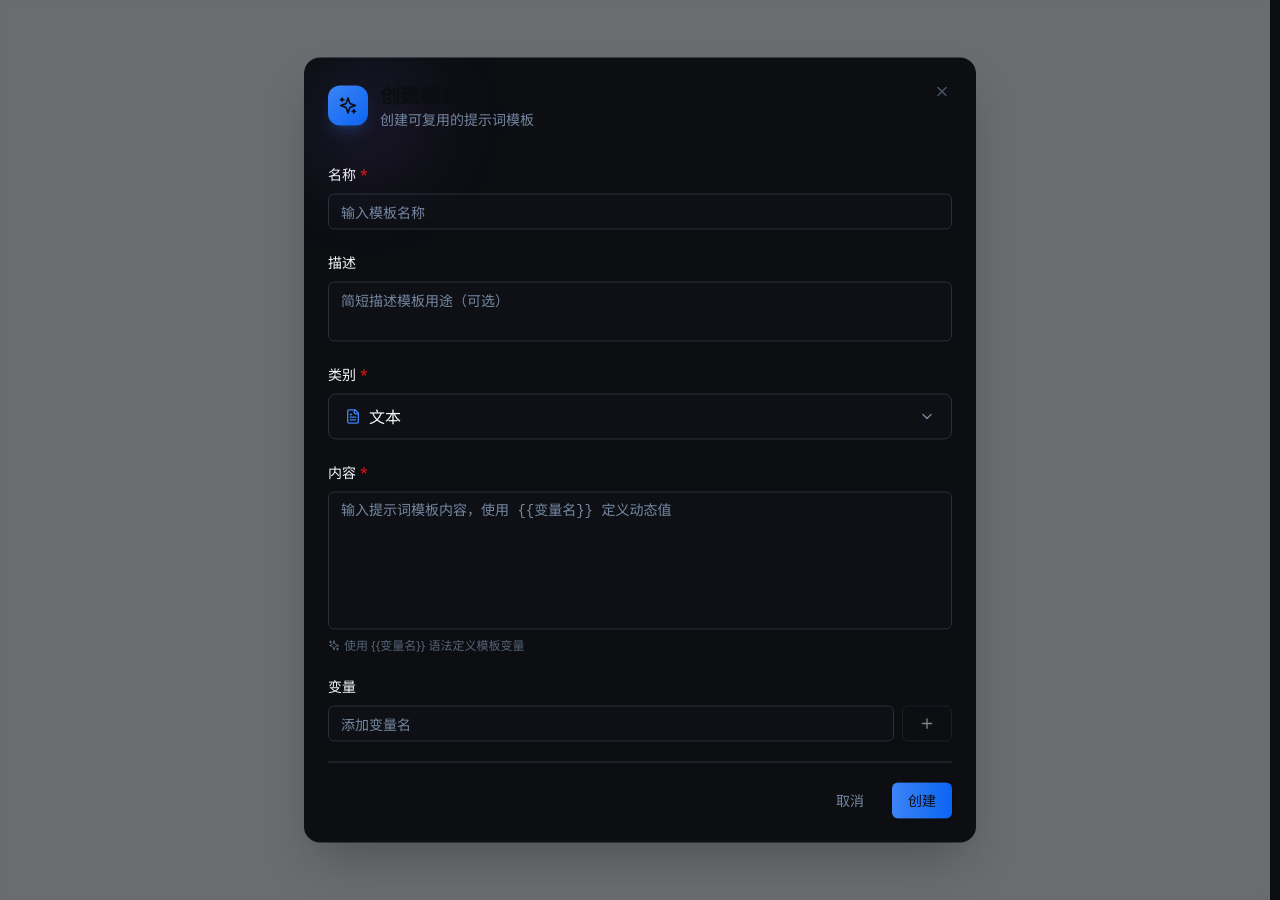
Test: CreateTemplateModal › shows creating state while submitting
The image size is (1280, 900).
Type "Test" into the field with placeholder "输入模板名称" at (640, 212), box top-left (328, 194), bottom-right (952, 230)
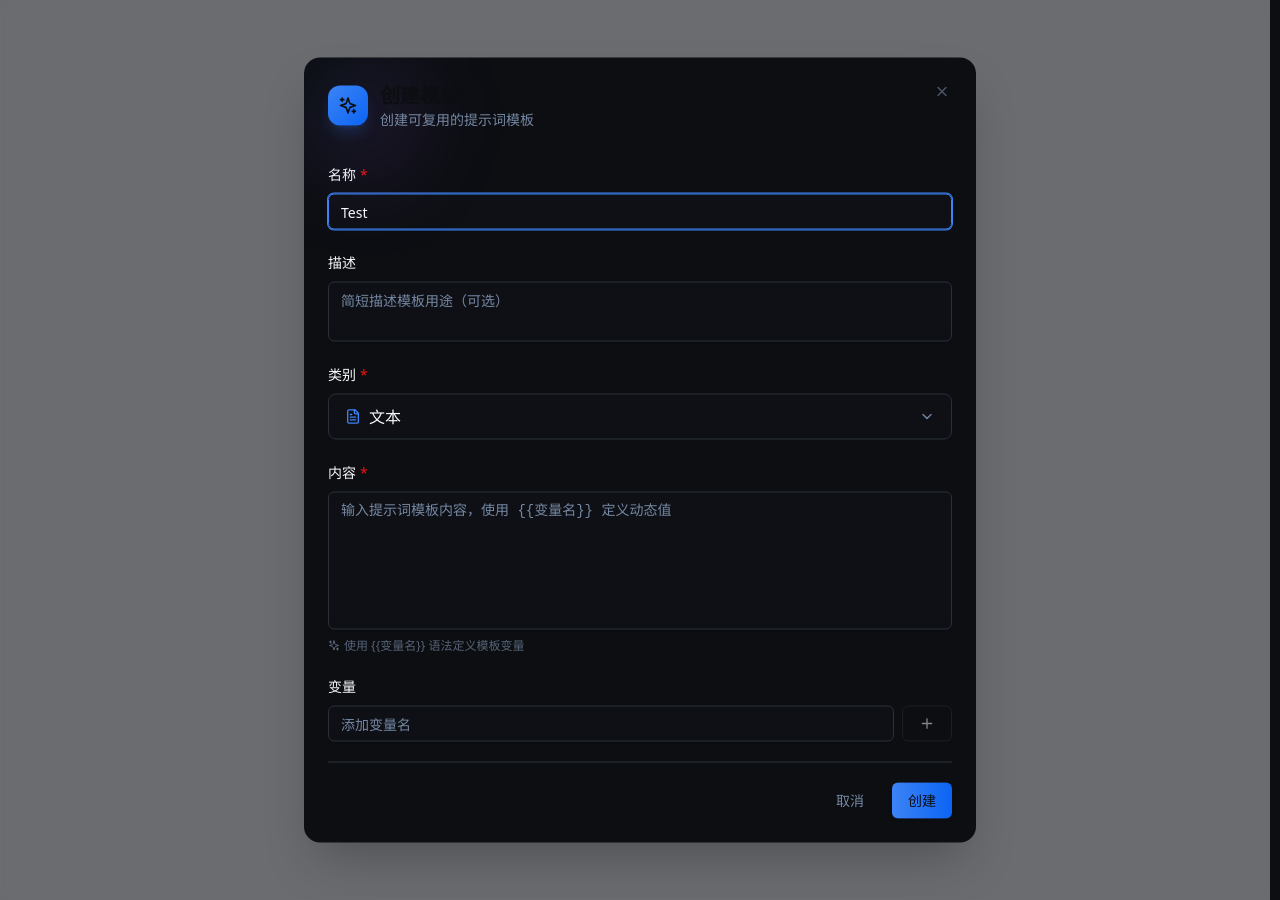
Type "Content" into the text box with placeholder "输入提示词模板内容，使用 {{变量名}} 定义动态值" at (640, 560), box top-left (328, 492), bottom-right (952, 630)
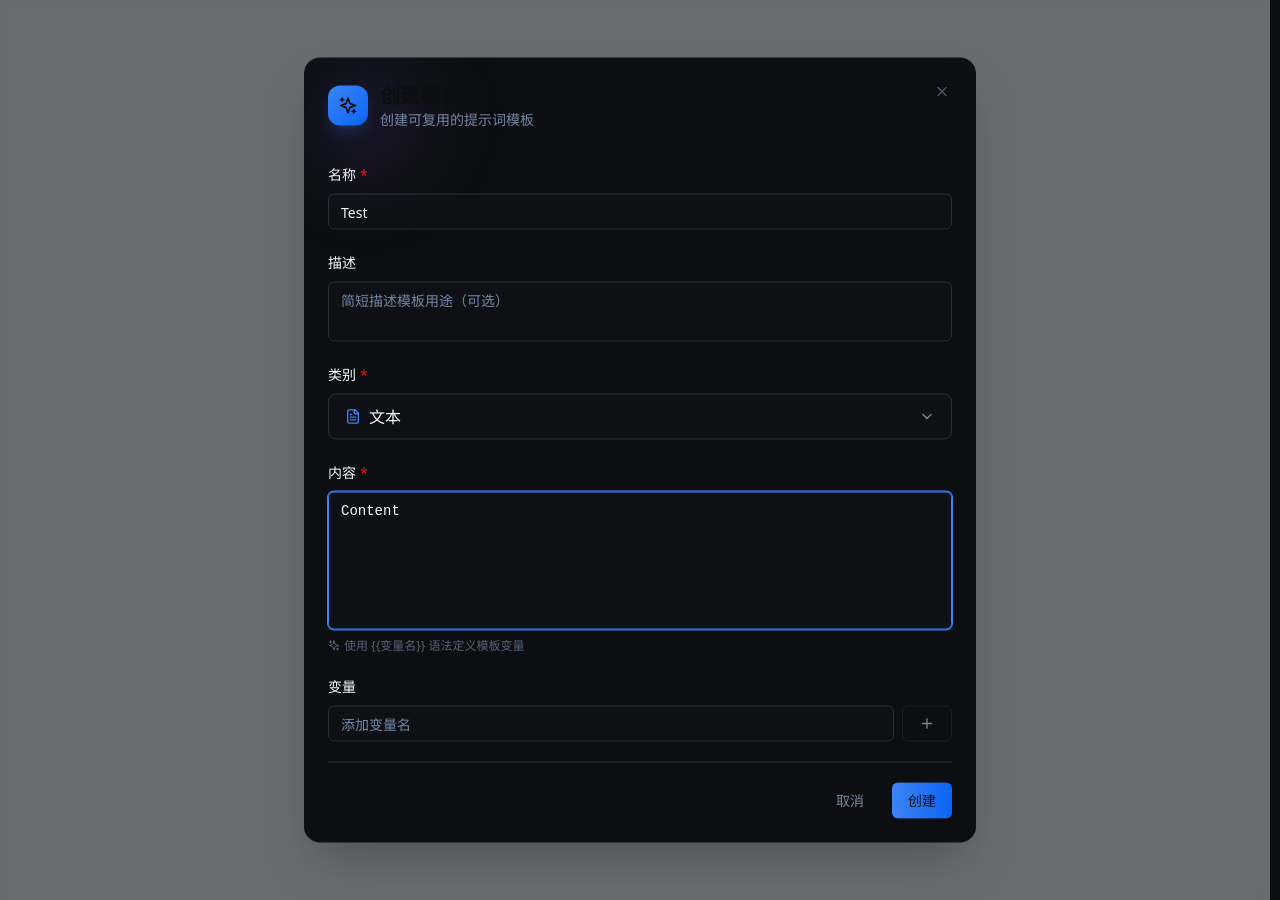
Click the button "创建" at (922, 800), box top-left (892, 782), bottom-right (952, 818)
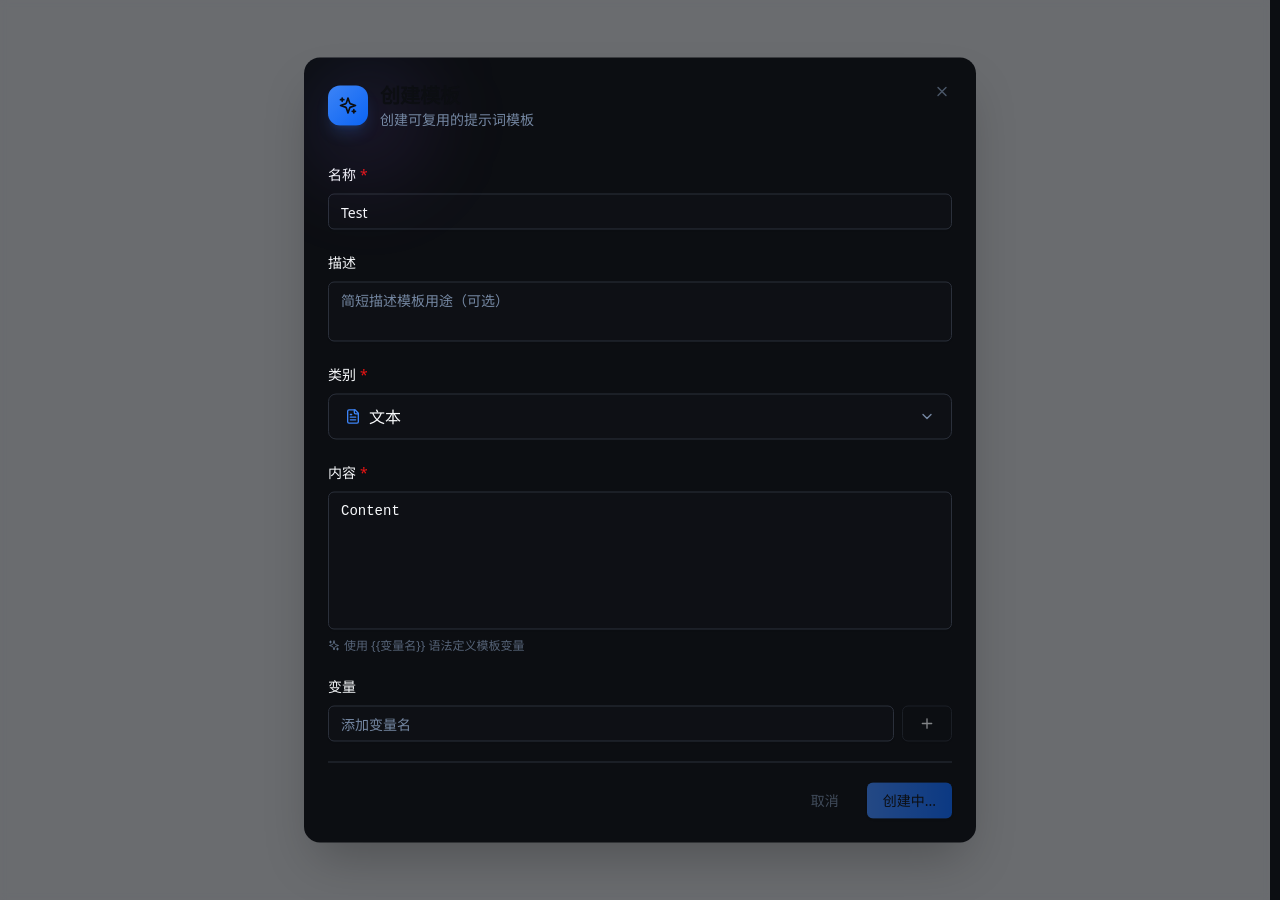
Expected: the button "创建中..." is disabled, top-left (867, 782), bottom-right (952, 818)
